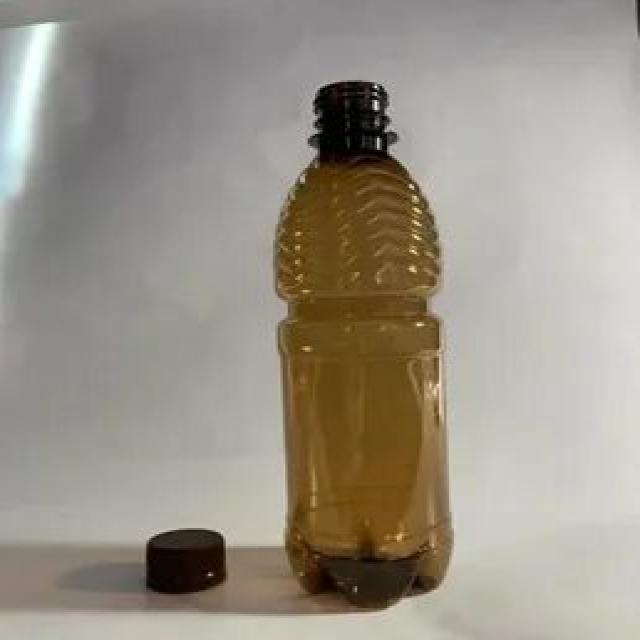brown: (273, 112, 448, 610)
